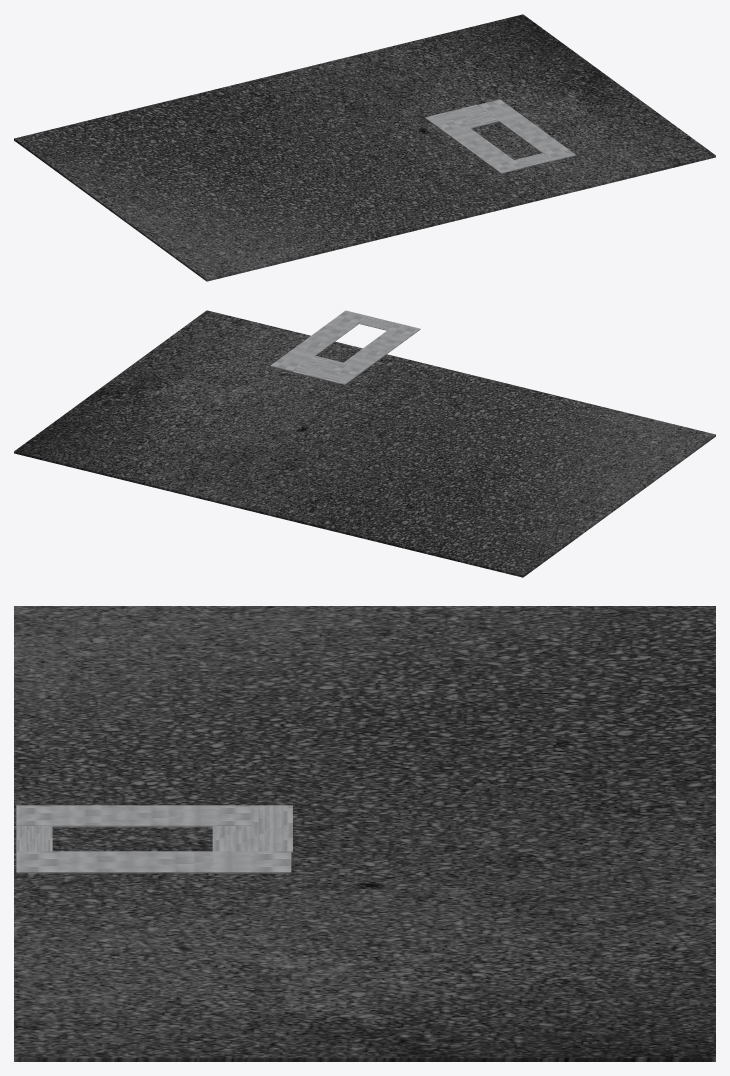
File: segundopiso2.obj
3 renders of one model, top to bottom at view 1: azimuth 30°, elevation 25°; view 2: azimuth 150°, elevation 25°; view 3: azimuth 270°, elevation 25°, orthographic. The views are drawn at different scales.
Parts seen in each view (by area): view 1: asfalto2:pCube10; view 2: asfalto2:pCube10; view 3: asfalto2:pCube10.
Boxes of the visible parts, bbox=[...] form: asfalto2:pCube10: bbox=[14, 14, 715, 281]; asfalto2:pCube10: bbox=[14, 310, 715, 577]; asfalto2:pCube10: bbox=[14, 606, 715, 1061].
Bounding box in the file's own units: 52.81 × 3.6 × 34.64.
Materials: 2 (2 with a texture image).
